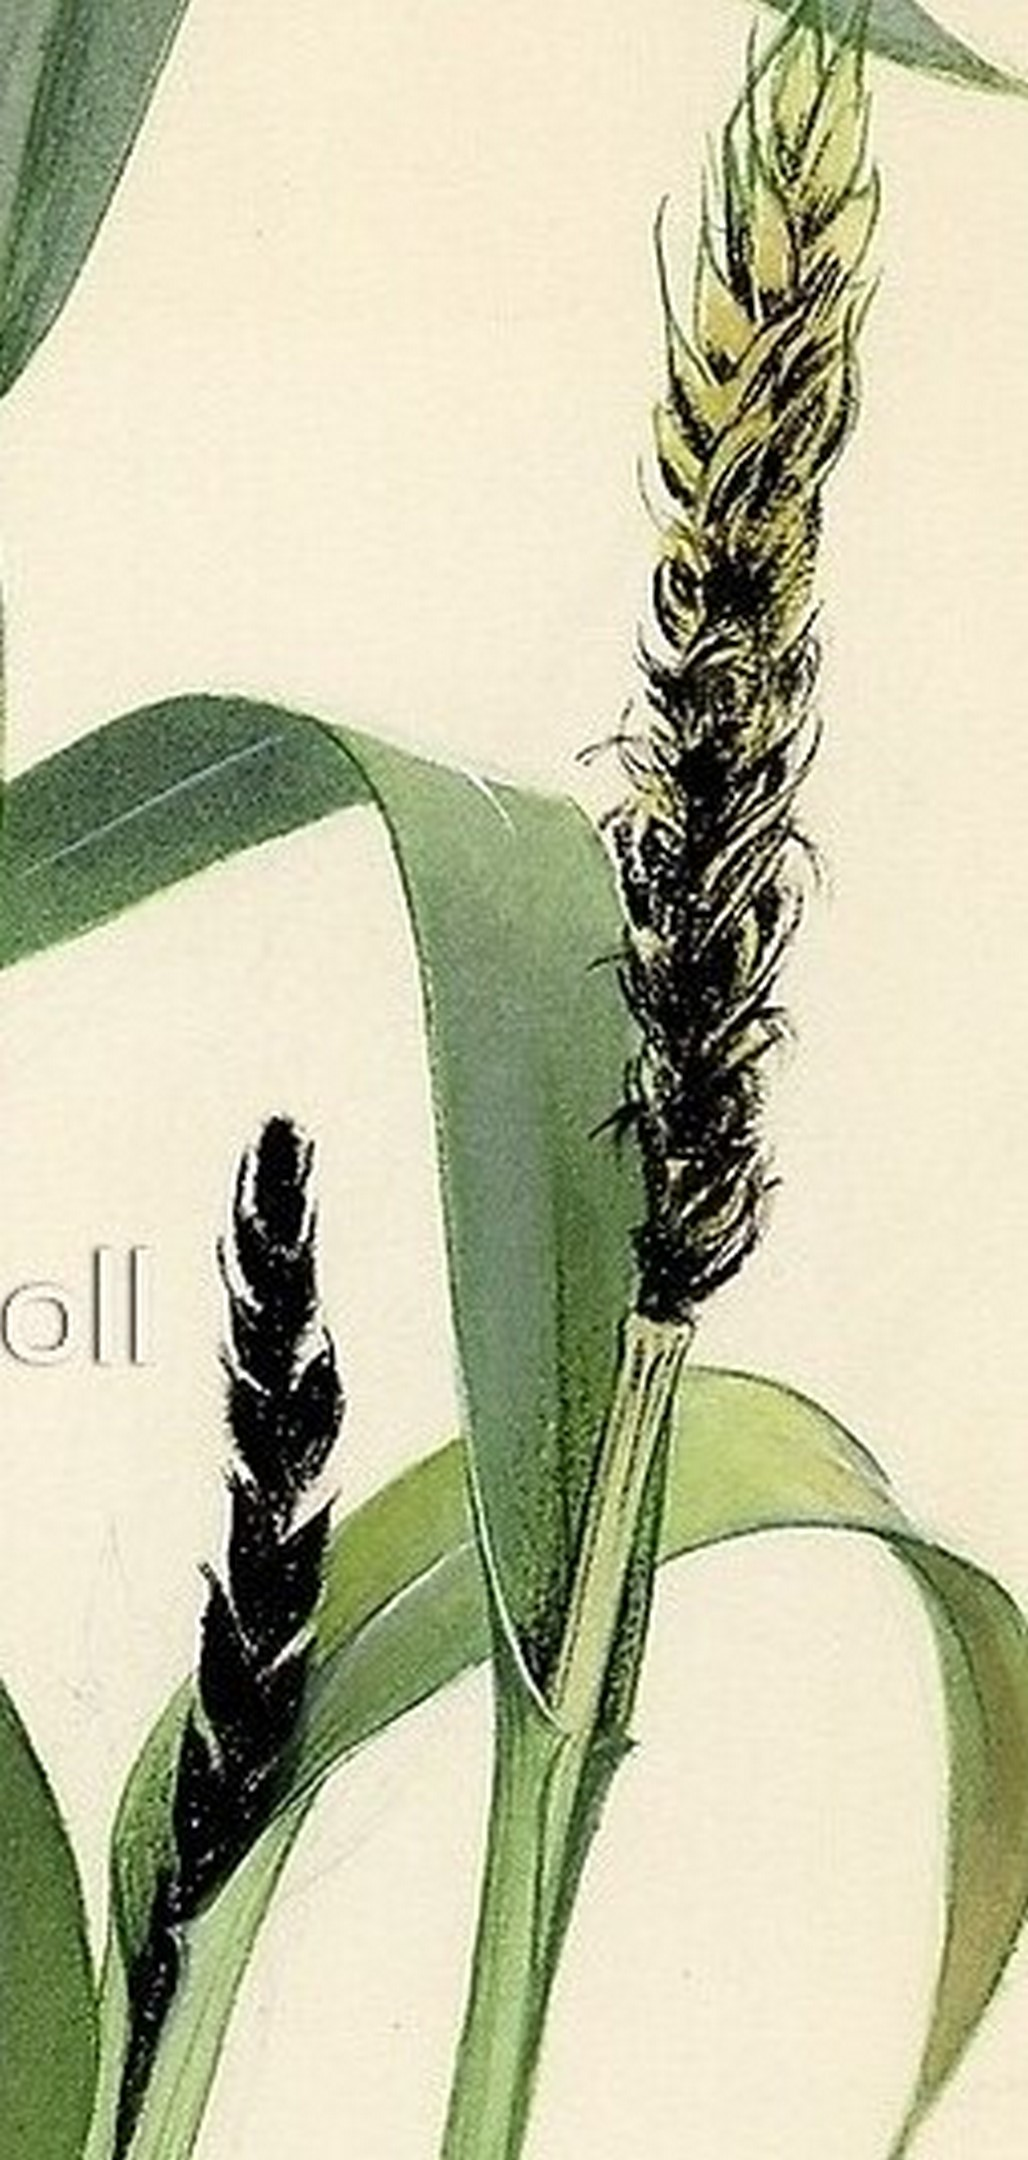Wheat Loose Smut: (183, 1074, 400, 1901)
